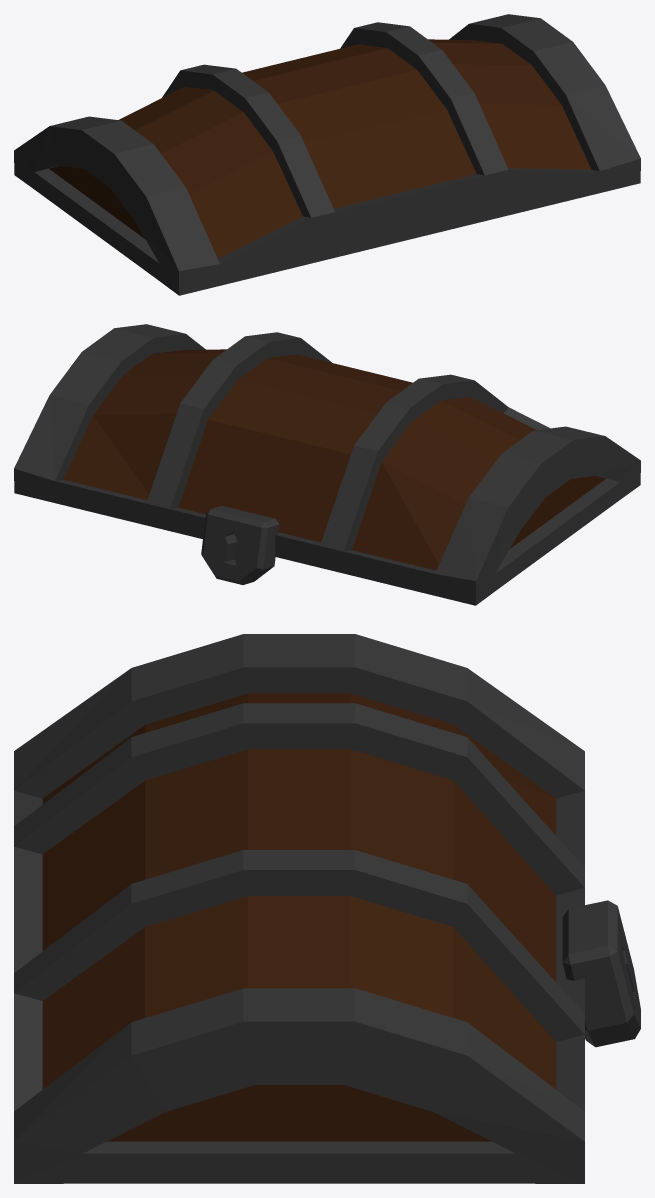
The model's file is Chest Top.fbx.
3 views of the same model, one above another, from view 1: azimuth 30°, elevation 25°; view 2: azimuth 150°, elevation 25°; view 3: azimuth 270°, elevation 25° (orthographic). The views are drawn at different scales.
Visible parts, largest first — view 1: Object018; view 2: Object018; view 3: Object018.
Part boxes in pixels (x1,y1,x2,y2): Object018: [14, 14, 640, 295]; Object018: [14, 324, 640, 605]; Object018: [14, 634, 640, 1183].
Size of the model in its own units: 64.87 by 44.04 by 19.29.
